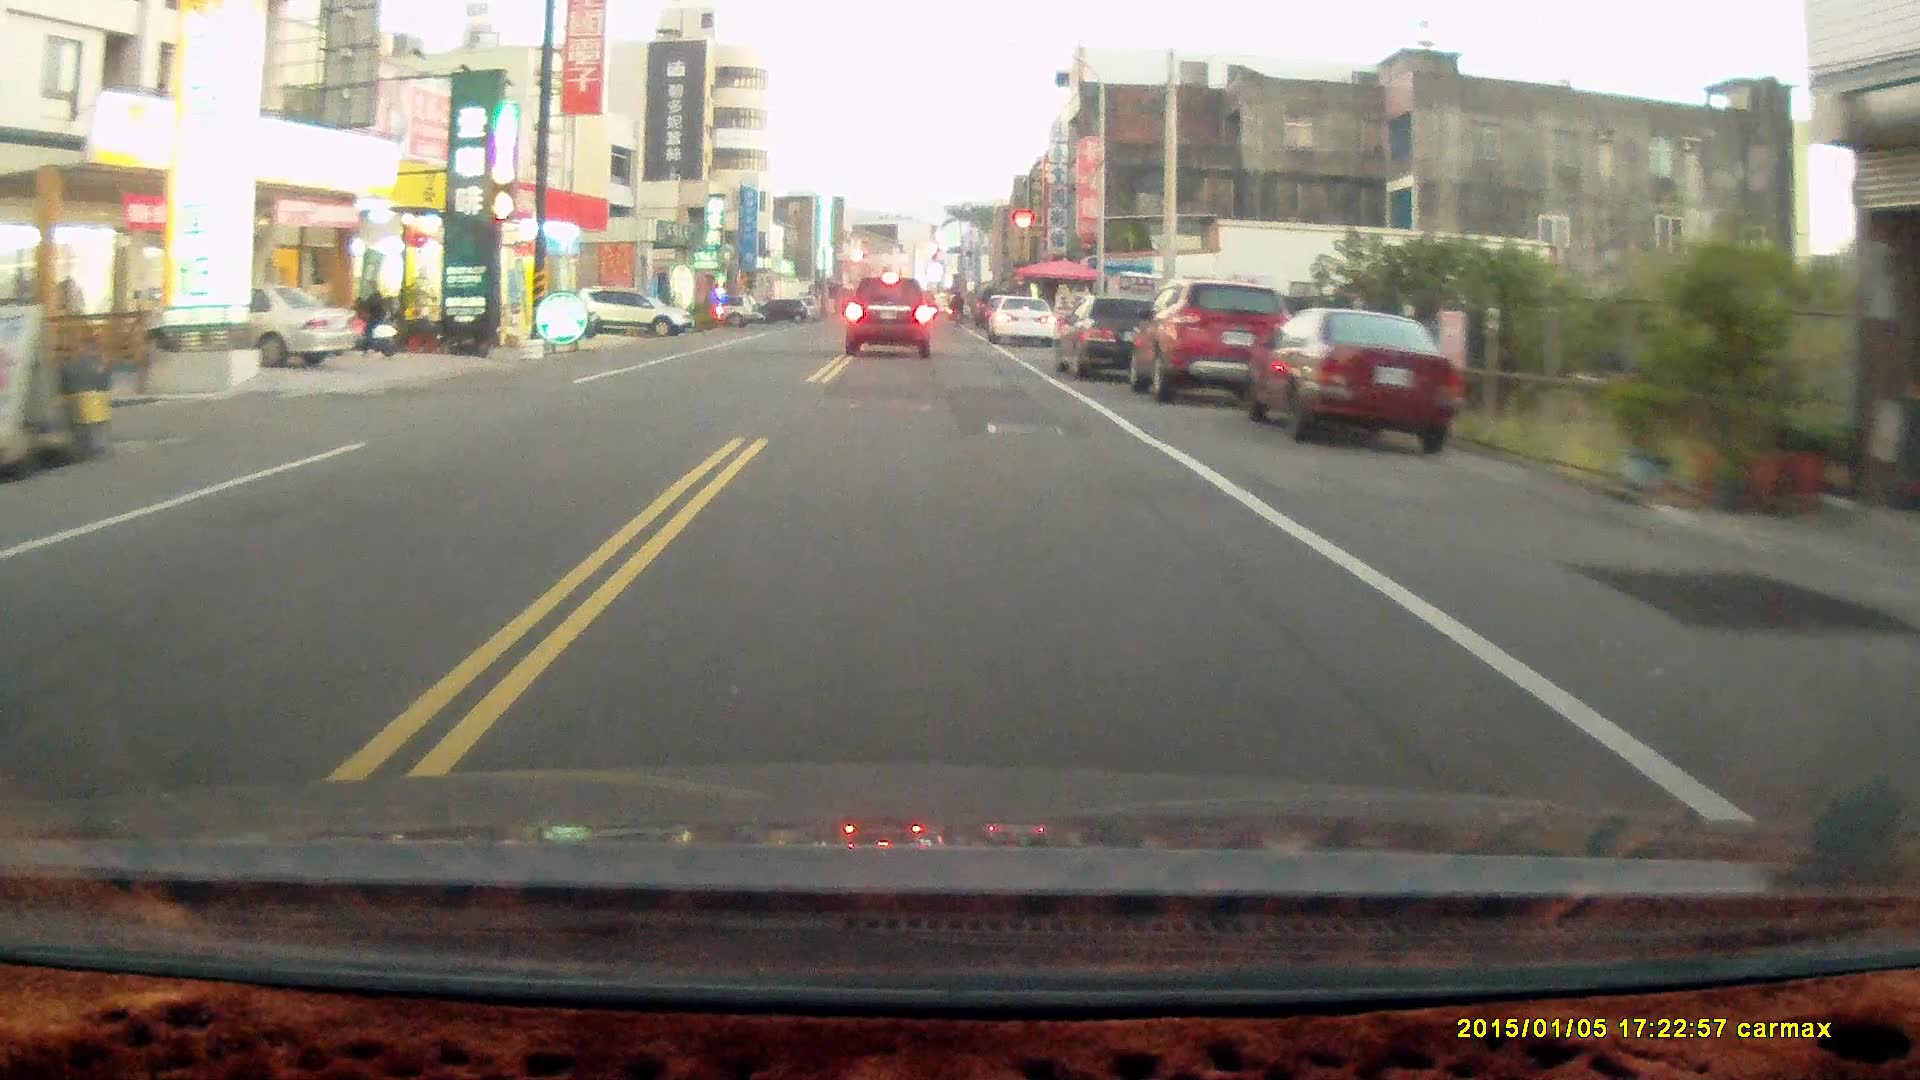vehicle: (1244, 301, 1469, 447), (1131, 276, 1302, 400), (145, 281, 357, 371), (1056, 295, 1180, 378), (844, 273, 938, 357), (578, 285, 692, 335), (989, 294, 1059, 349)
